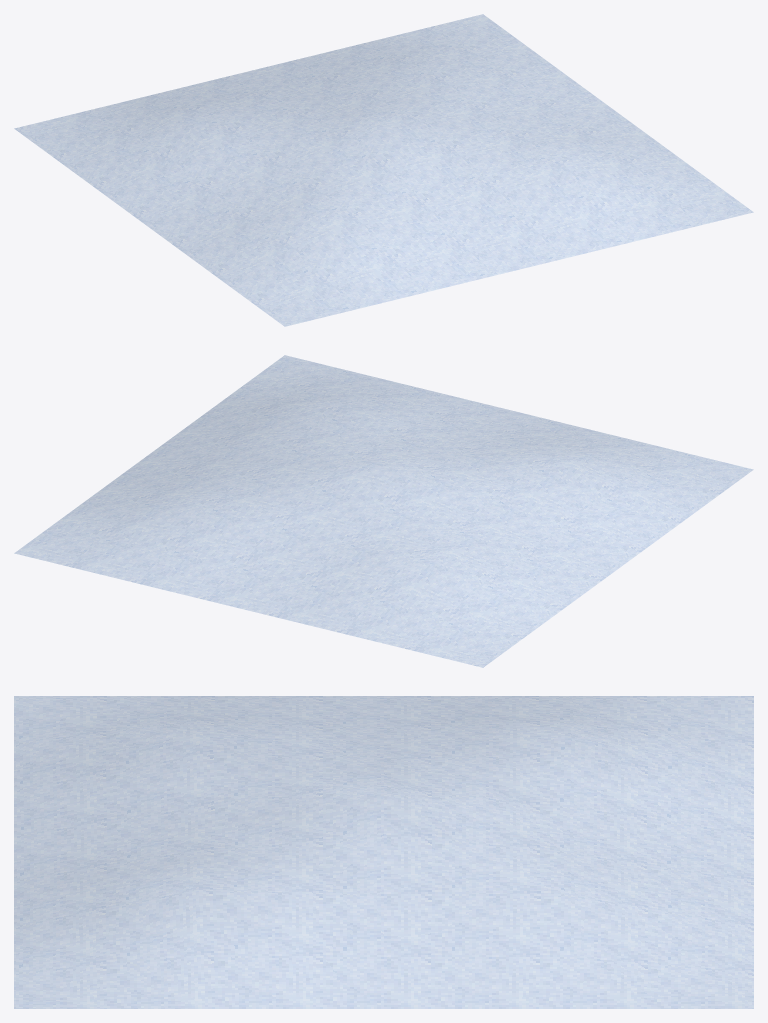
Rendered from snow_hill1.glb.
3 views of the same model, one above another, from view 1: azimuth 30°, elevation 25°; view 2: azimuth 150°, elevation 25°; view 3: azimuth 270°, elevation 25° (orthographic). The views are drawn at different scales.
Visible parts, largest first — view 1: Plane; view 2: Plane; view 3: Plane.
Part boxes in pixels (bbox=[...]): Plane: bbox=[14, 14, 753, 326]; Plane: bbox=[14, 355, 753, 667]; Plane: bbox=[14, 696, 753, 1008].
Bounding box in the file's own units: 4 × 0.3334 × 4.
1 material, 1 textured.
